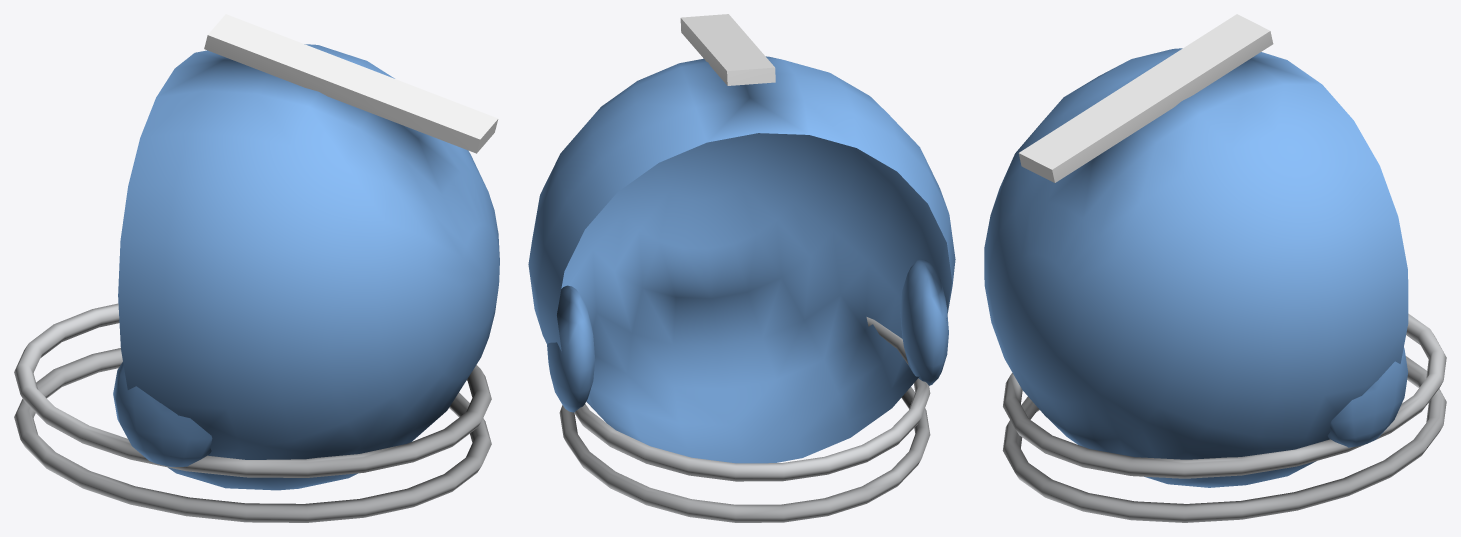
File: football_head.fbx
3 renders of one model, left to right at view 1: azimuth 30°, elevation 25°; view 2: azimuth 150°, elevation 25°; view 3: azimuth 270°, elevation 25°, orthographic. The views are drawn at different scales.
Visible parts, largest first — view 1: football_head; view 2: football_head; view 3: football_head.
Boxes of the visible parts, <box> form: football_head: <box>14,14,499,522</box>; football_head: <box>528,14,955,522</box>; football_head: <box>984,14,1446,522</box>.
Size of the model in its own units: 1.3 by 1.36 by 1.33.
